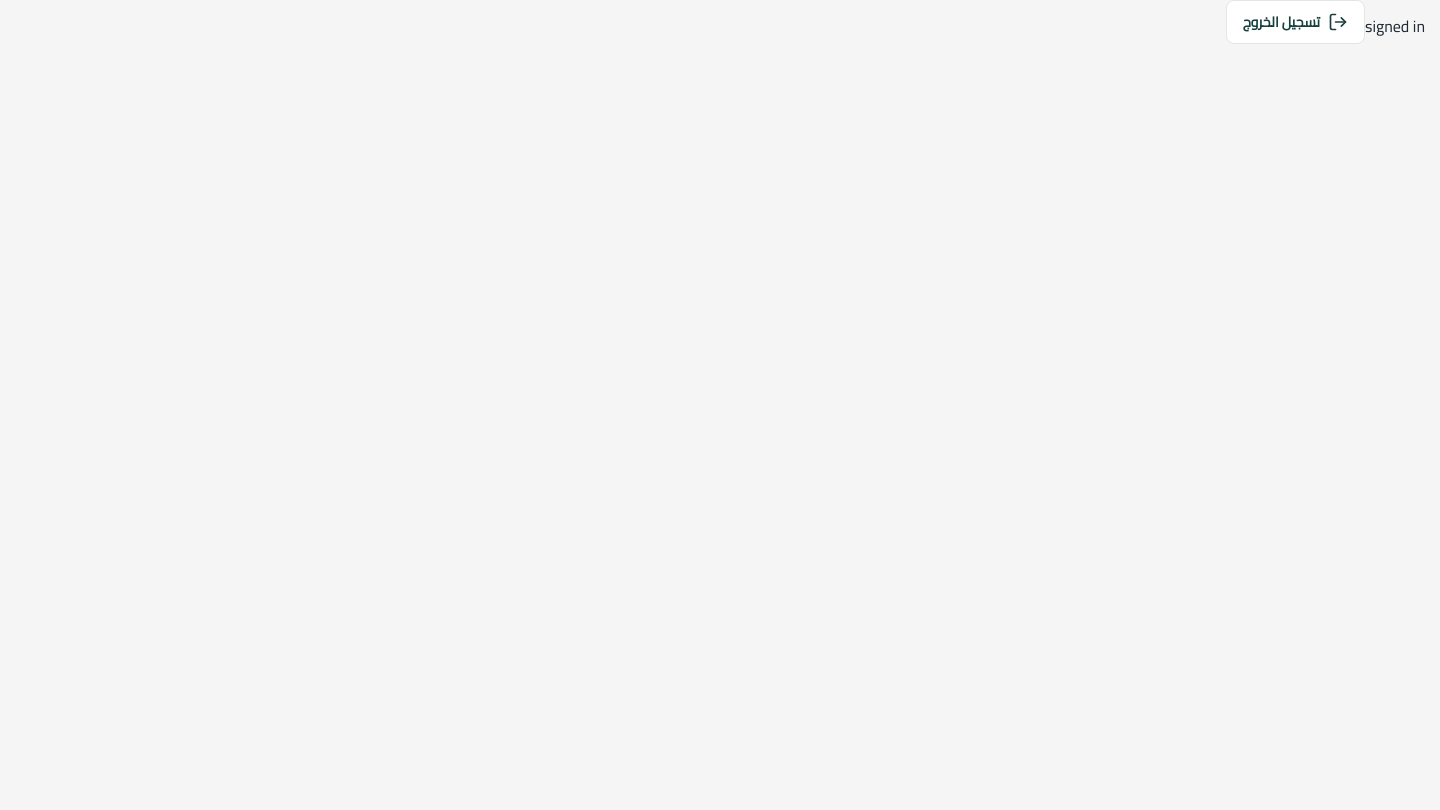
Test case: keeps the session on cancel and ends it only after manual confirmation
Click the button "تسجيل الخروج".
click(1295, 22)  # box [1226,0,1365,44]
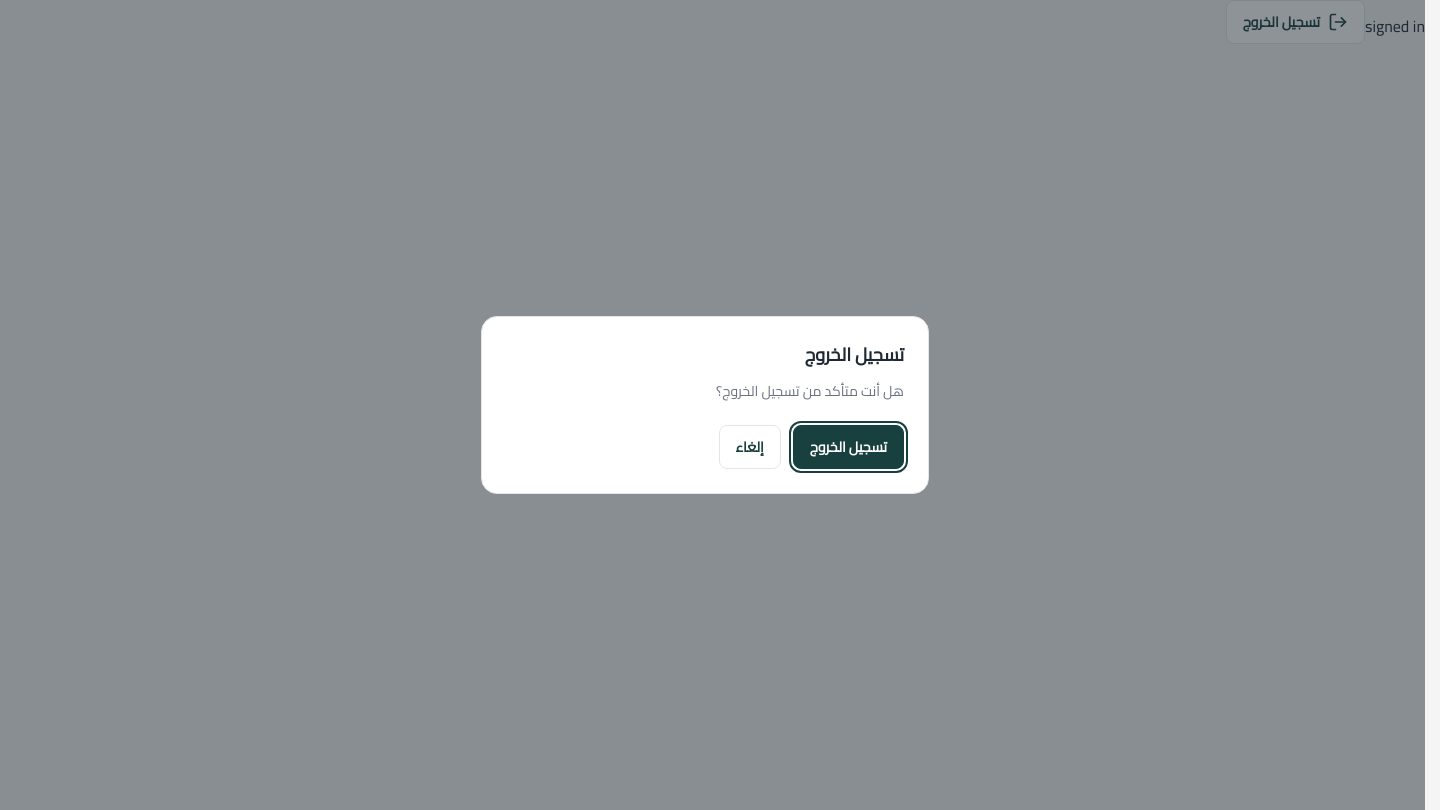
Click the button "إلغاء".
click(750, 447)  # box [718,425,781,469]
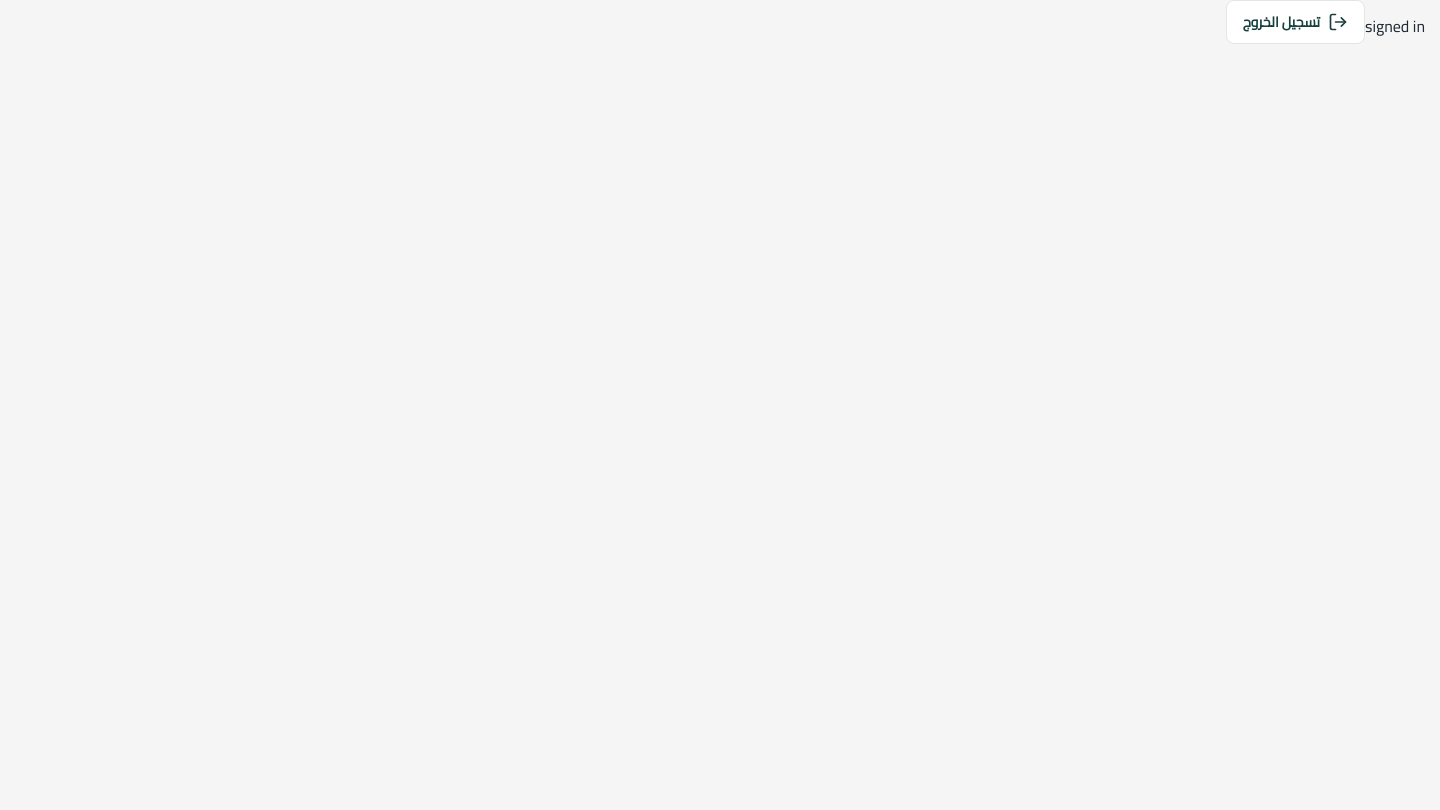
Expected: the text "signed in" is shown, [1365,11,1425,41]
Click the button "تسجيل الخروج".
click(1295, 22)  # box [1226,0,1365,44]
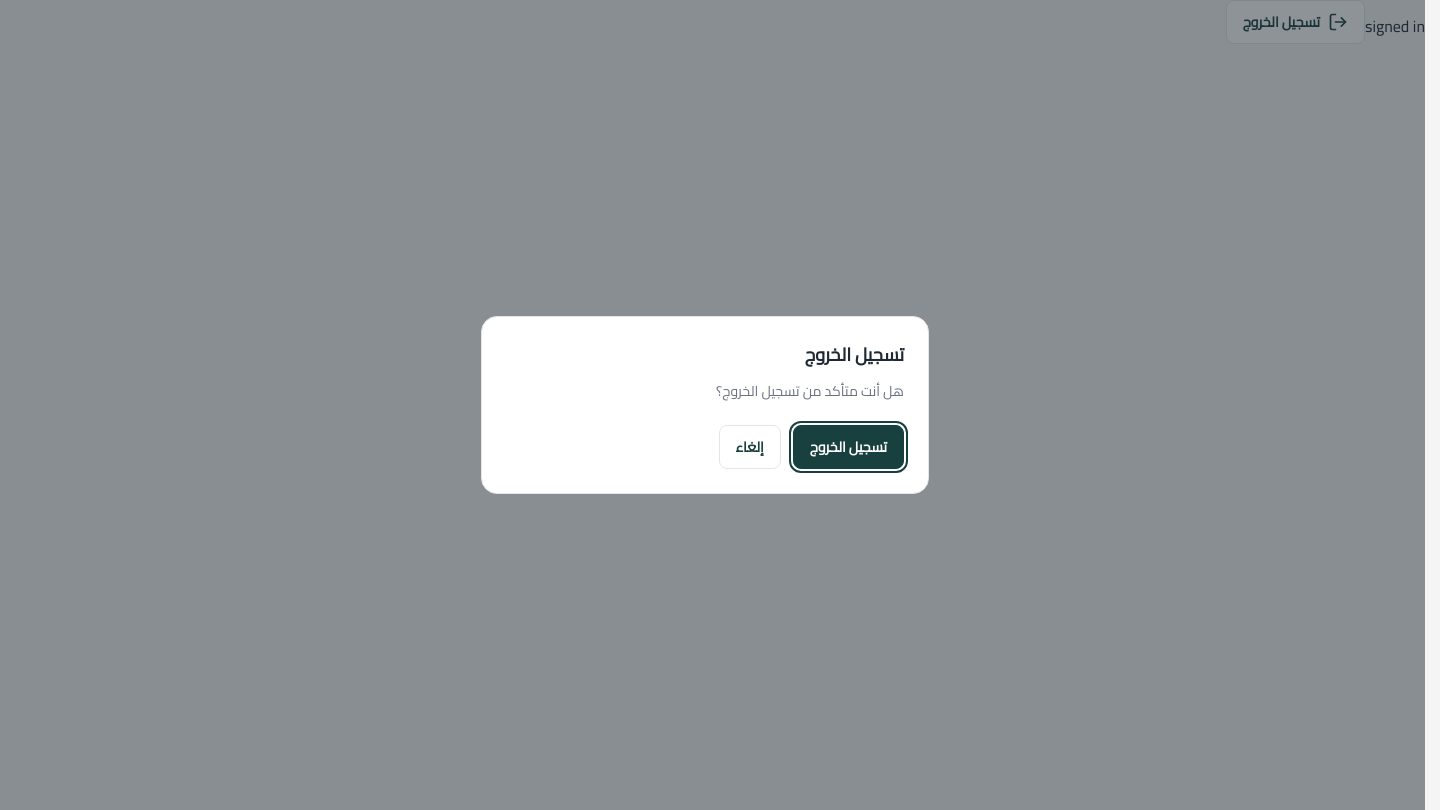
Click the button "تسجيل الخروج" below "هل أنت متأكد من تسجيل الخروج؟".
click(848, 447)  # box [793,425,904,469]
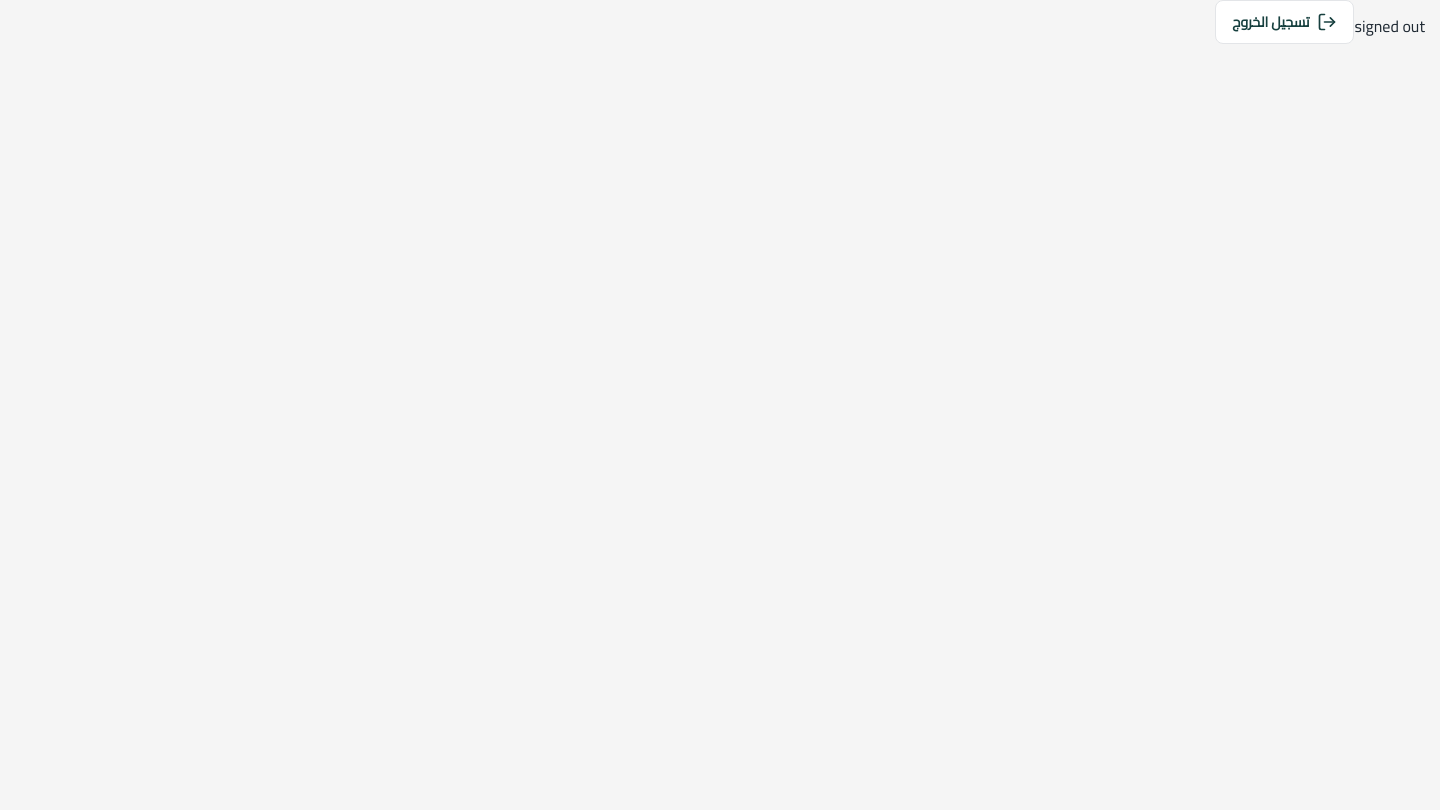
Now the text "signed out" is shown, box [1354,11,1425,41]
